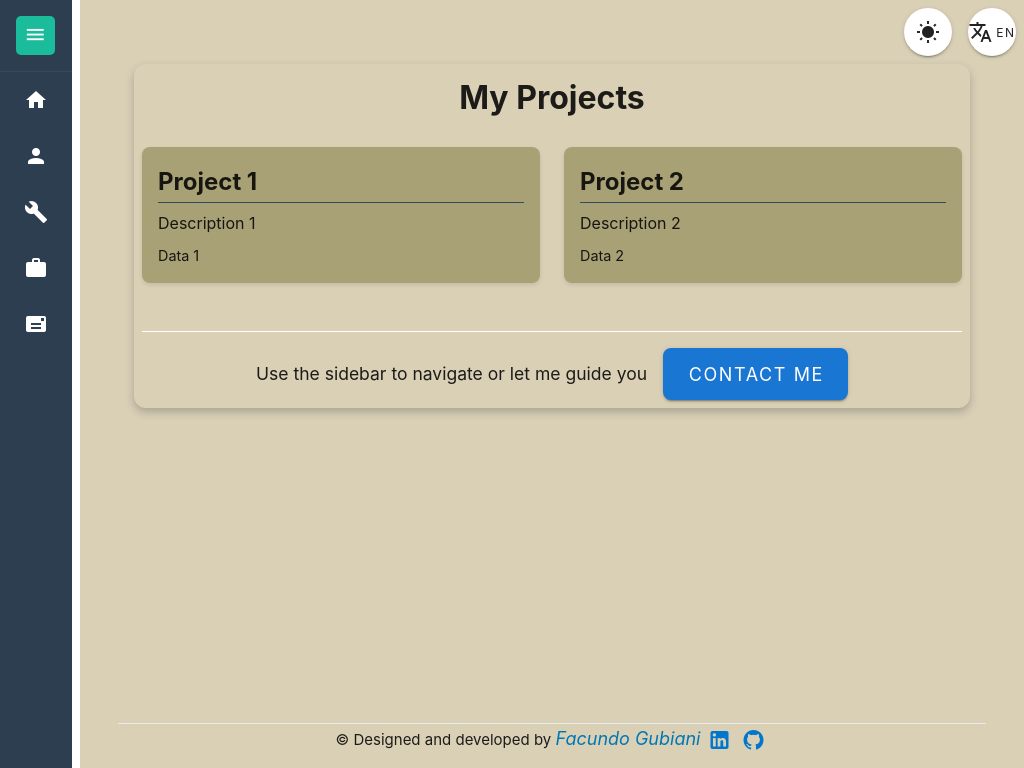
Projects Page › should navigate to the Contact page when the navigation button is clicked
Step 1. Click the button "Contact Me" → coordinates (756, 374), box [663,348,848,400]
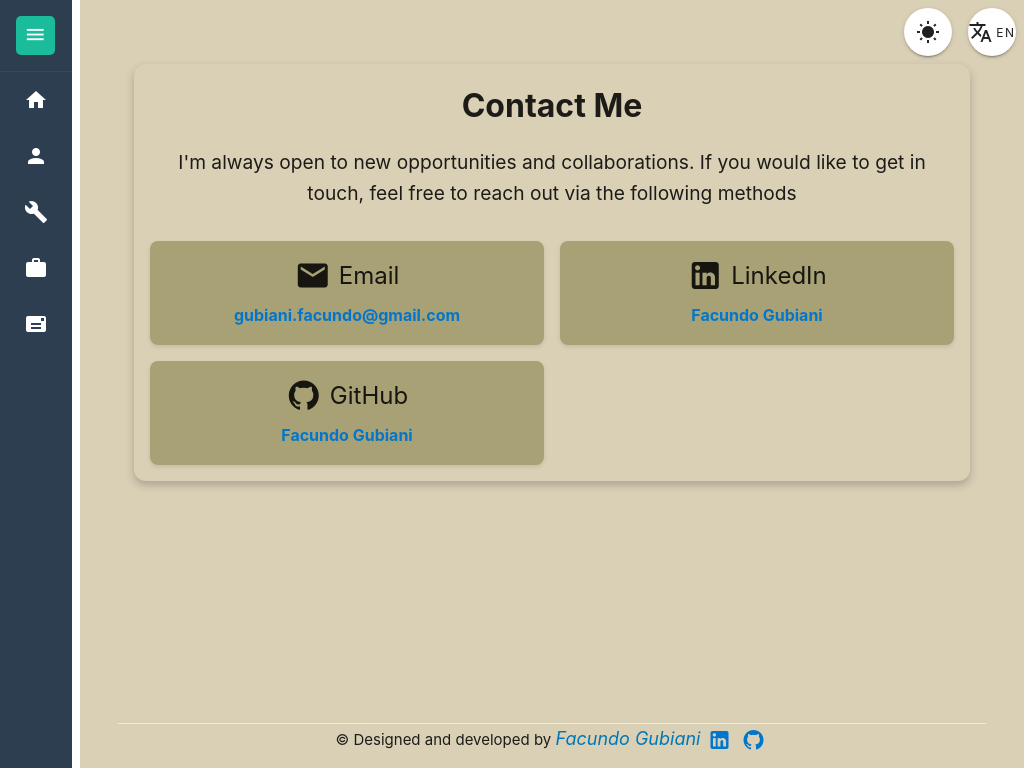
Check: the element with class "contact-container" is shown, box [134,64,970,481]
